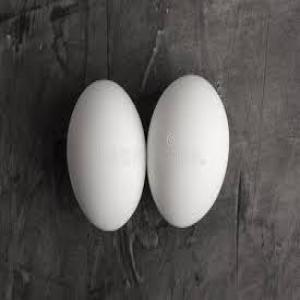Egg: (148, 75, 229, 229), (66, 78, 146, 233)
